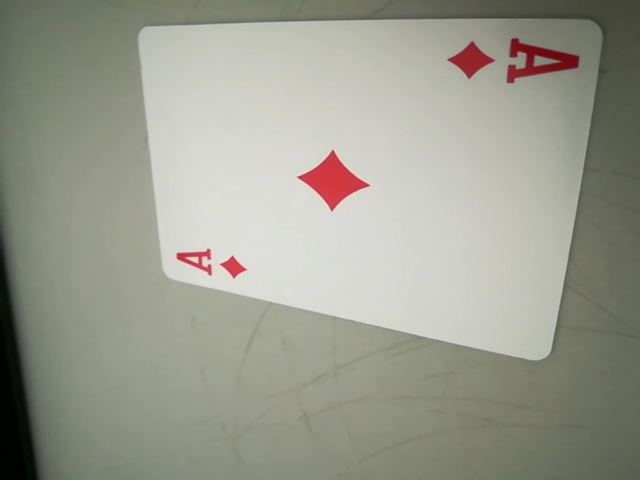fk a: (441, 31, 579, 89), (170, 237, 257, 284)
